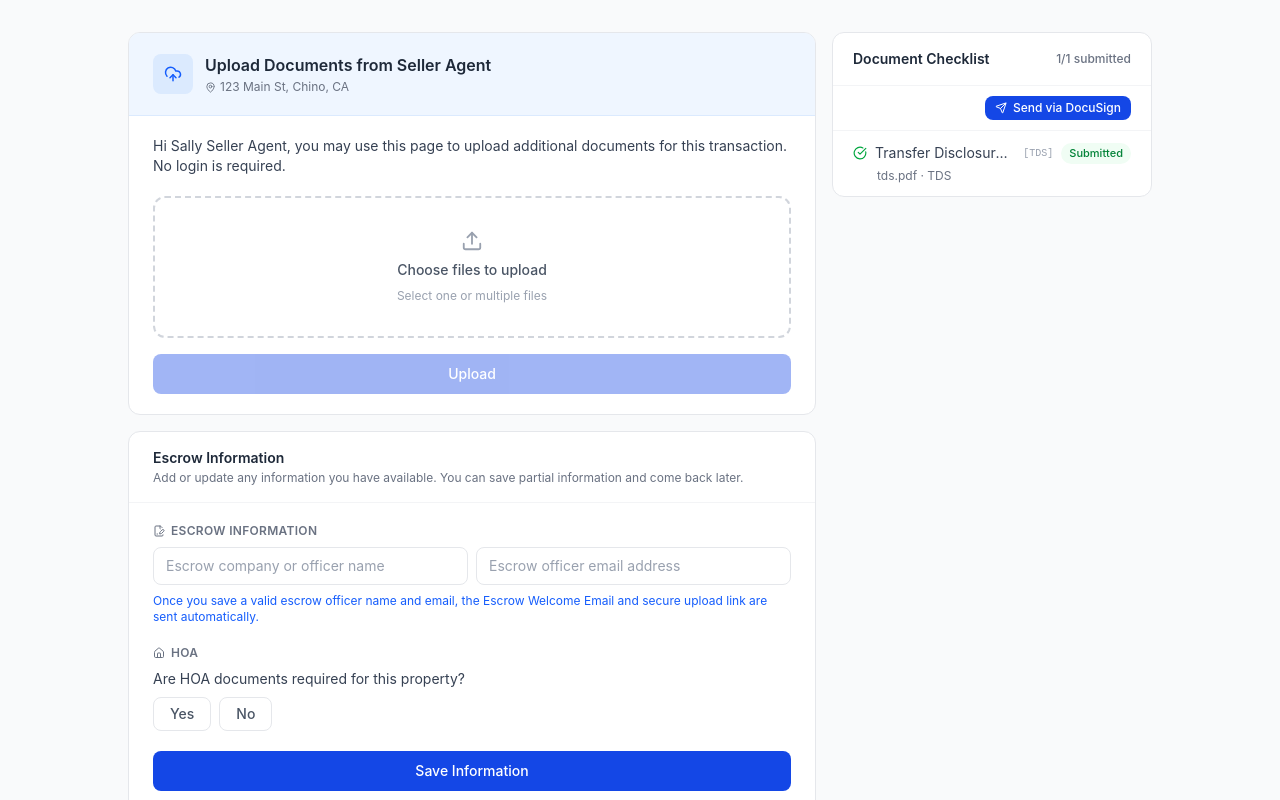
Test: SellerAgentUploadPage — centralized "Send via DocuSign" action › shows the button once all required documents are submitted, and opens the multi-select modal listing the eligible document, preselected
The image size is (1280, 800).
Click the button "Send via DocuSign" at (1058, 108), box [985, 96, 1131, 120]
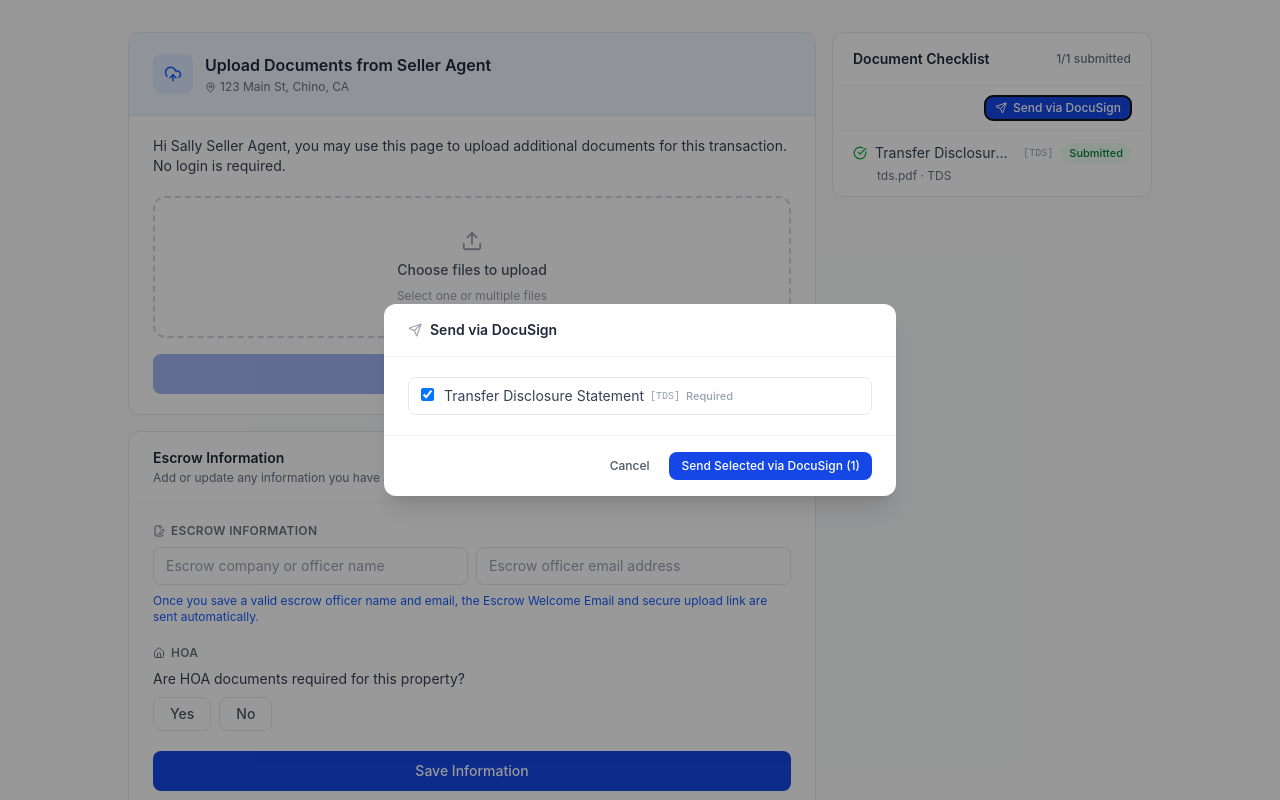
Result: the checkbox is checked at [421, 388, 434, 401]
